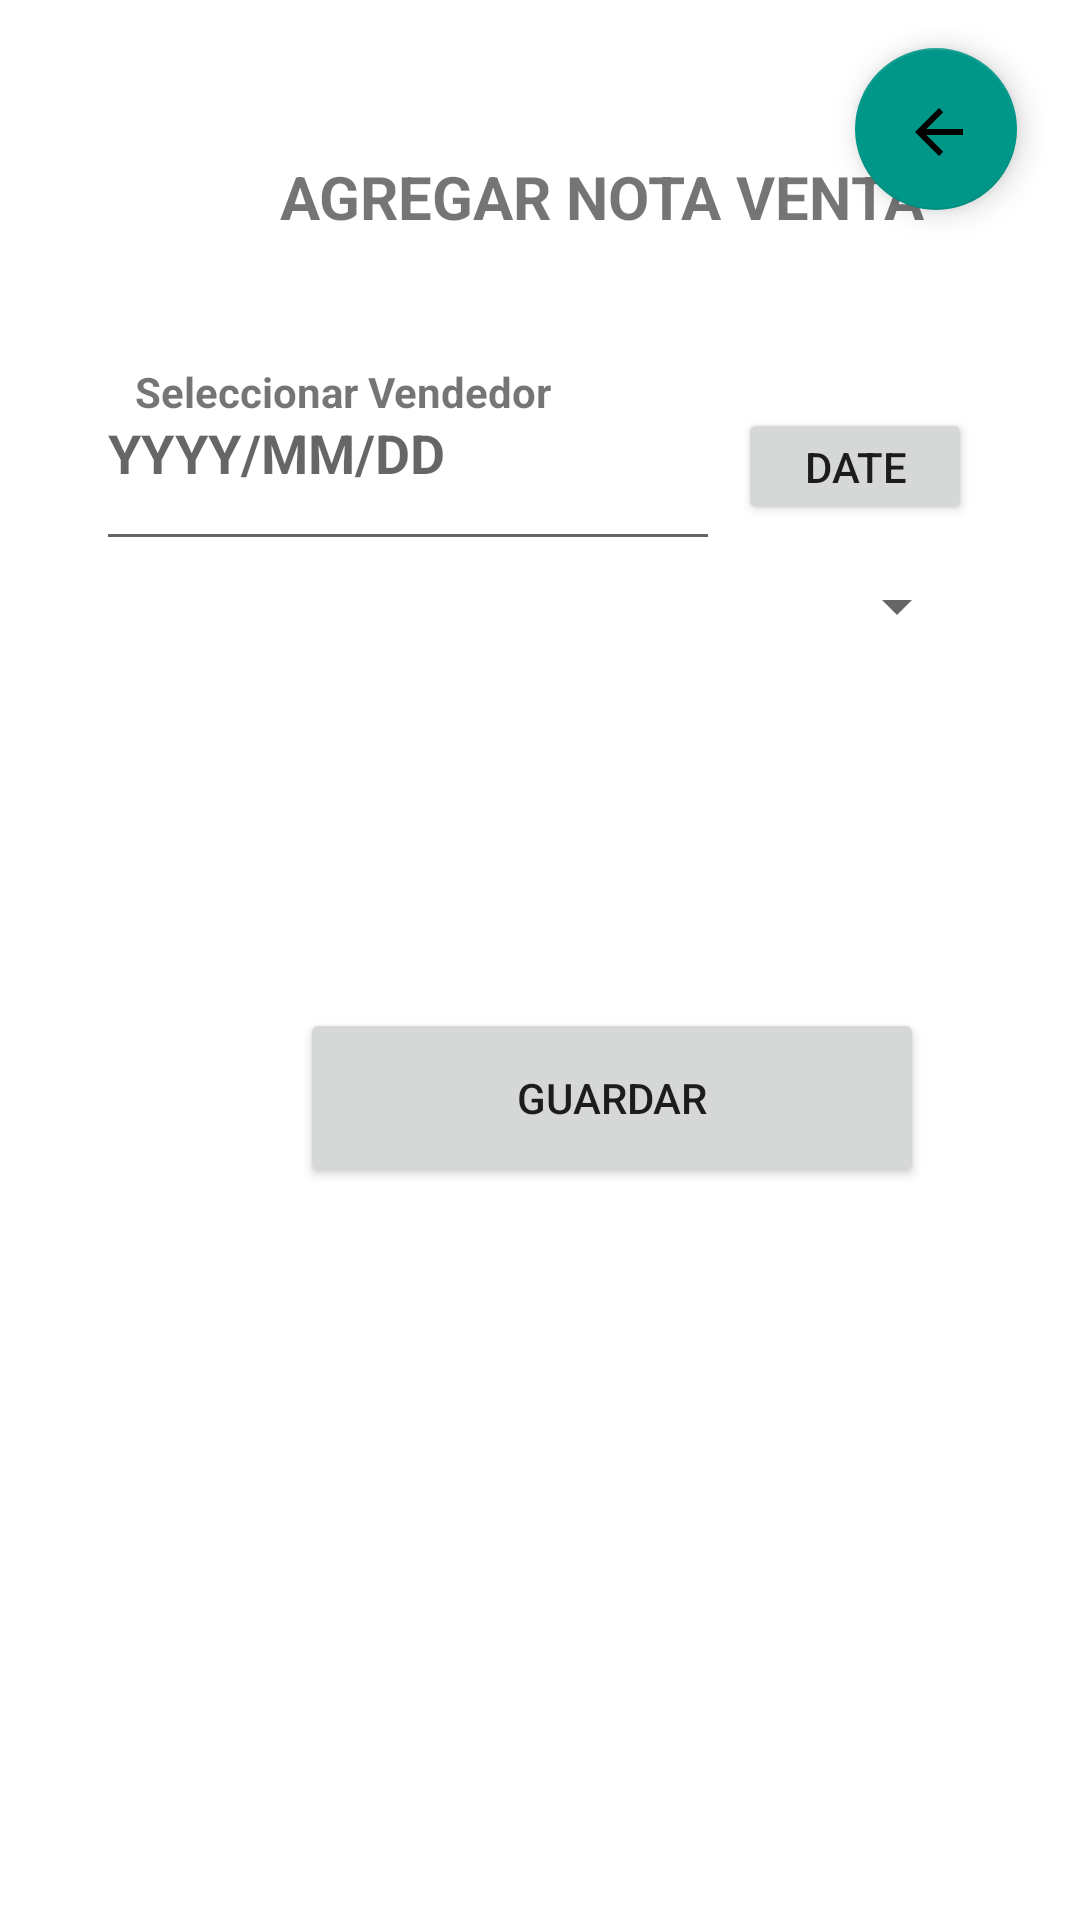

Point at icon controls on the screen. Image size 1080w x 1920h, points as point (x, y).
back: point (936, 129)
